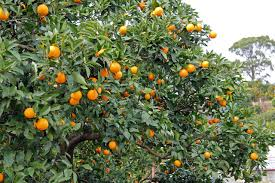orange: (43, 45, 64, 60), (35, 118, 49, 131), (25, 104, 36, 118), (111, 62, 122, 74), (89, 88, 98, 100)
